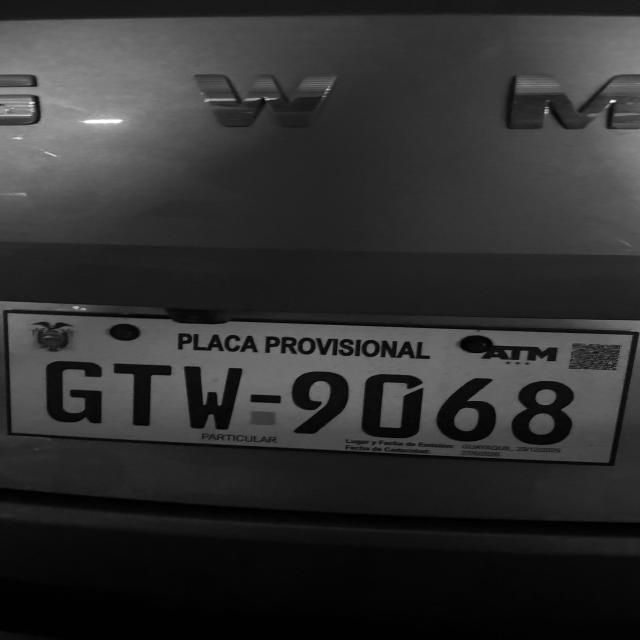Placa: (7, 312, 637, 463)
